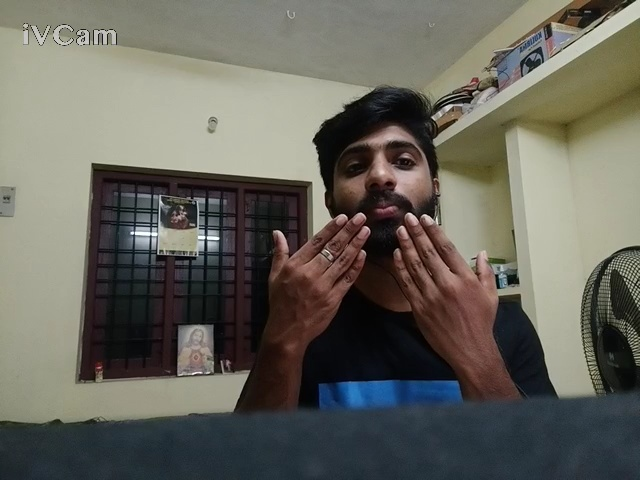Thank You: (234, 188, 525, 480)
